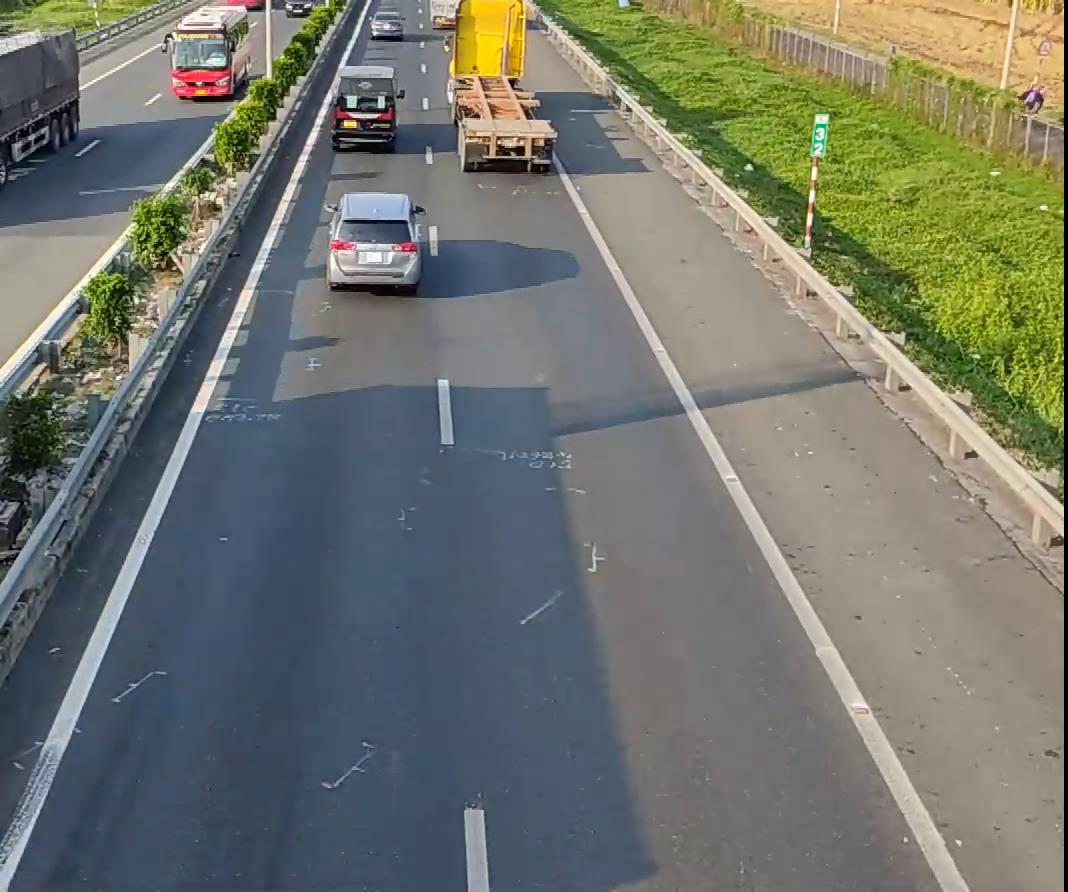bus: (167, 2, 254, 97)
car: (324, 190, 427, 291)
container: (445, 0, 557, 170)
truck: (0, 27, 81, 200)
